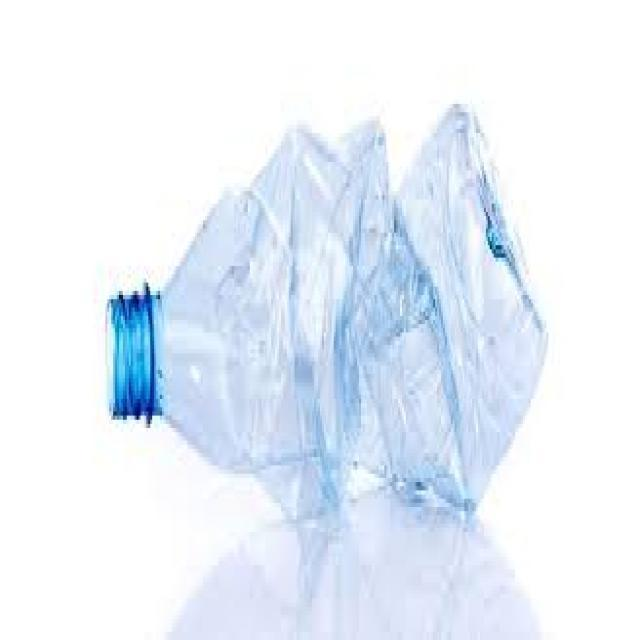Plastic: (105, 103, 548, 530)
